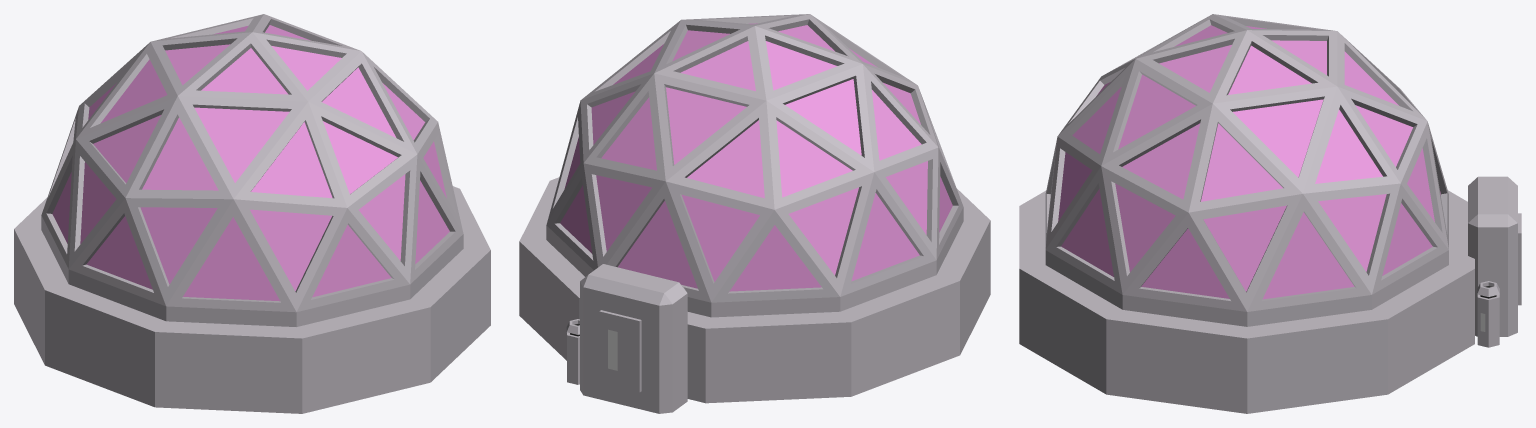
File: 小温室.fbx
3 views of the same model, side by side, from view 1: azimuth 30°, elevation 25°; view 2: azimuth 150°, elevation 25°; view 3: azimuth 270°, elevation 25° (orthographic).
Parts seen in each view (by area): view 1: 小温室; view 2: 小温室; view 3: 小温室.
Part boxes in pixels (x1,y1,x2,y2): 小温室: [14, 14, 490, 413]; 小温室: [519, 14, 990, 413]; 小温室: [1019, 14, 1521, 413].
Bounding box in the file's own units: 532 × 348 × 558.
